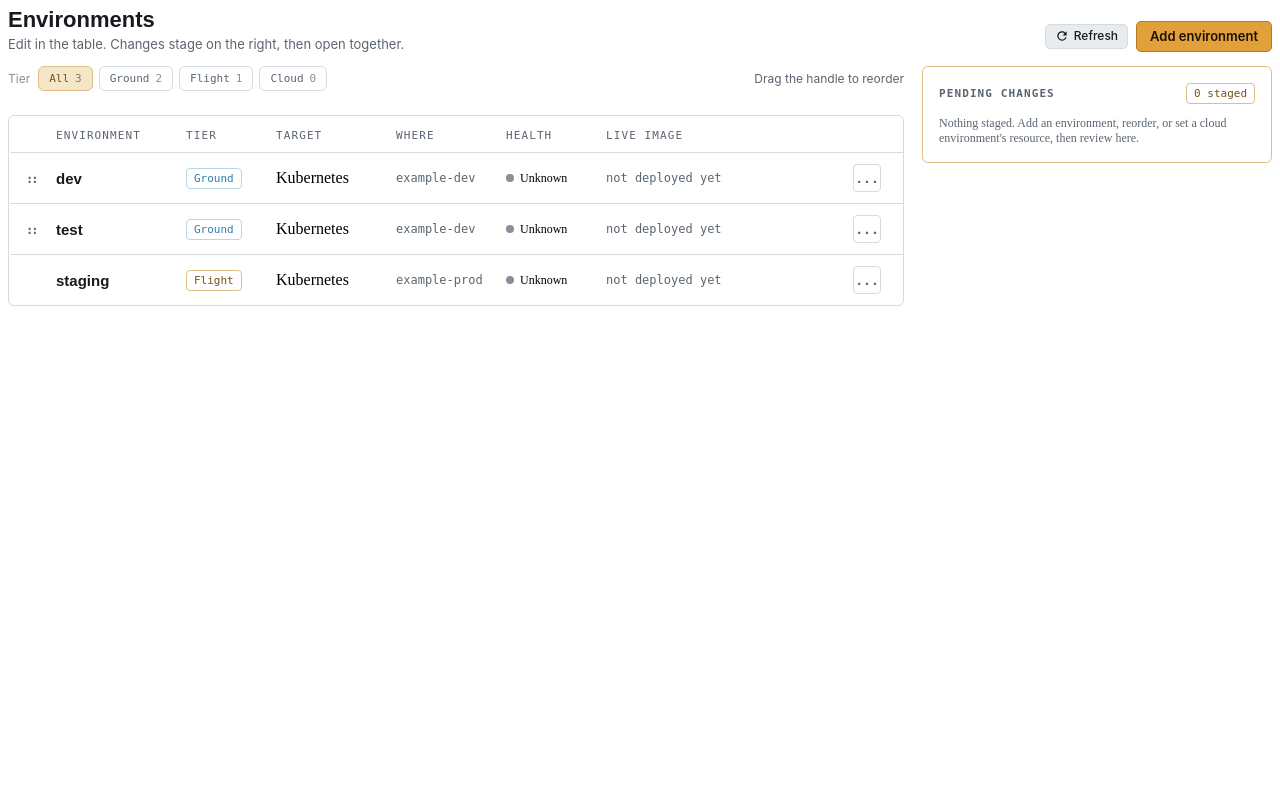
Test case: EnvironmentsTab: staging a Ground environment › stages an add, shows the follow-up and the new row
Check: the text "Nothing staged" is shown, box top-left (939, 116), bottom-right (1226, 145)
Click the button "Add environment" at (1204, 36), box top-left (1136, 21), bottom-right (1272, 52)
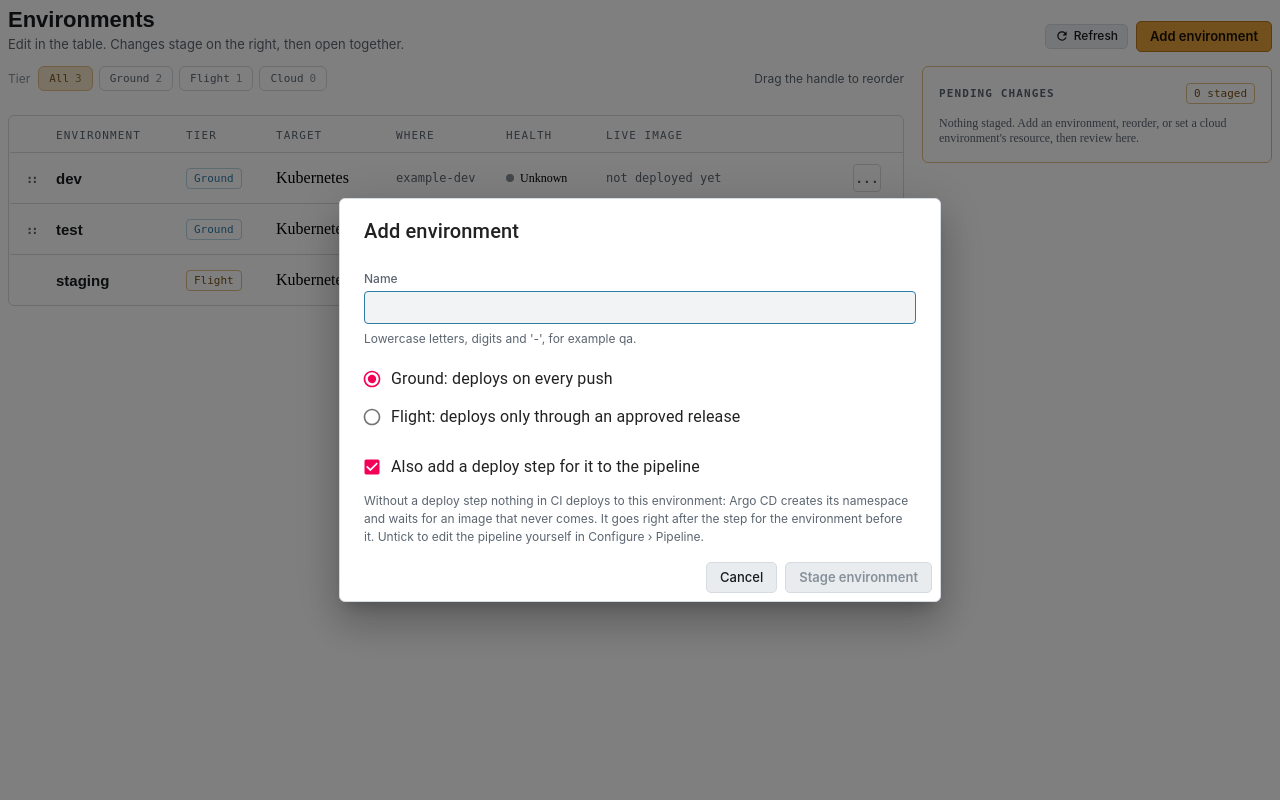
Type "qa" into the field labelled "Name" at (640, 307), box top-left (364, 291), bottom-right (916, 324)
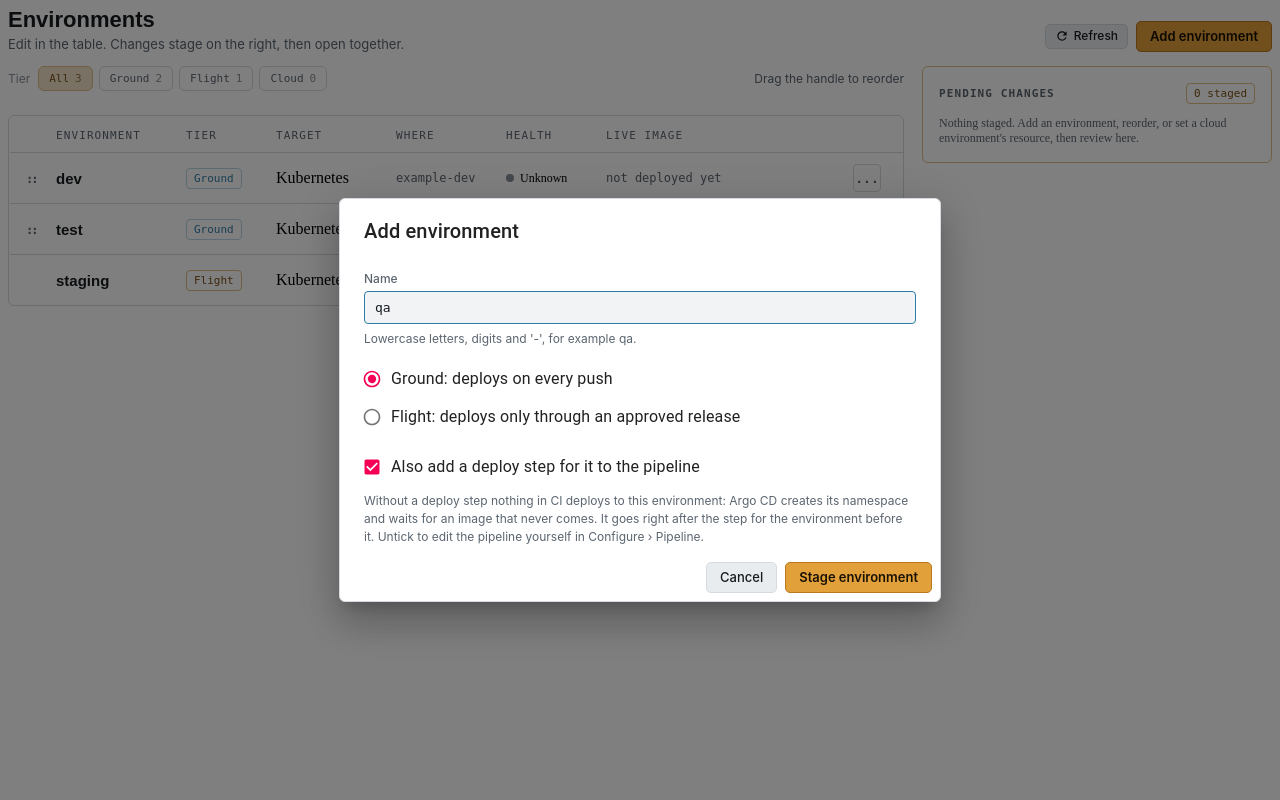
Click the button "Stage environment" at (859, 578), box top-left (785, 562), bottom-right (932, 593)
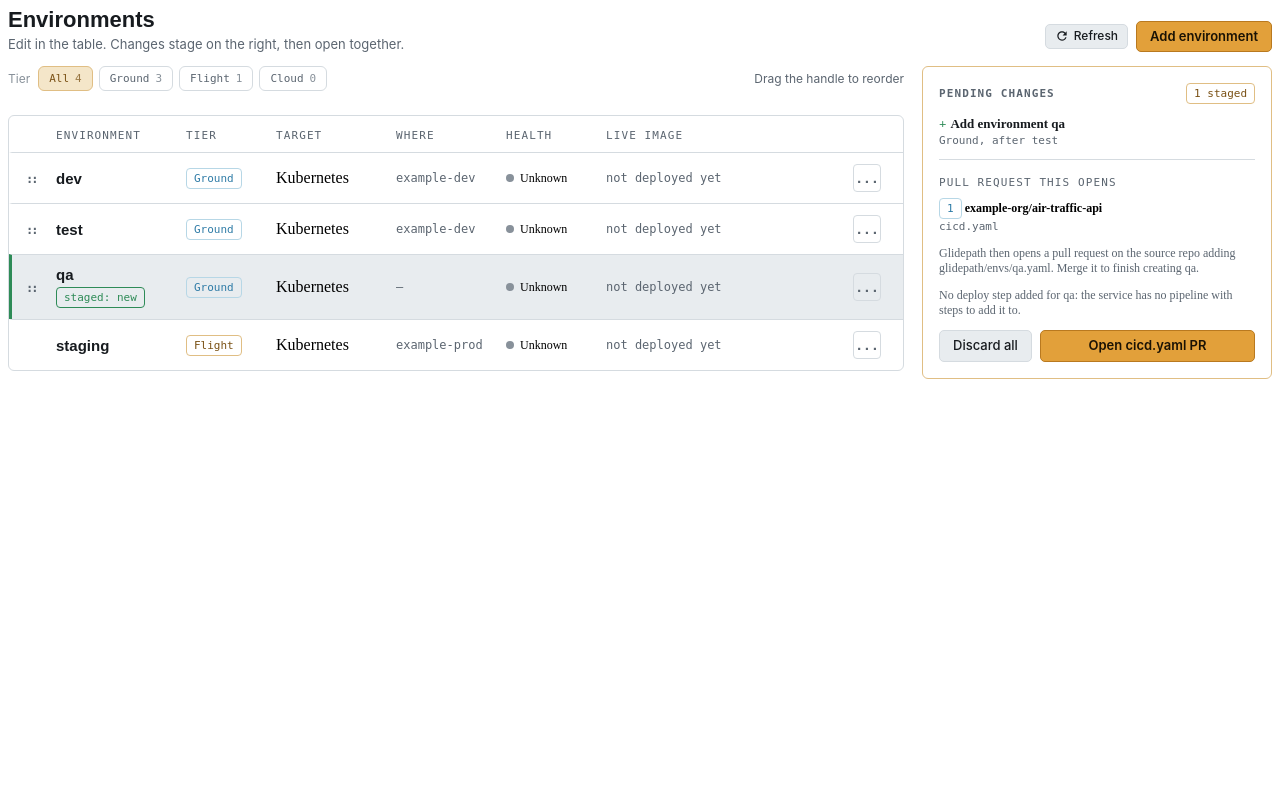
Check: the dialog is gone
Check: the text "Add environment qa" is shown, box top-left (950, 116), bottom-right (1065, 131)
Check: the text "Ground, after test" is shown, box top-left (939, 134), bottom-right (1058, 147)
